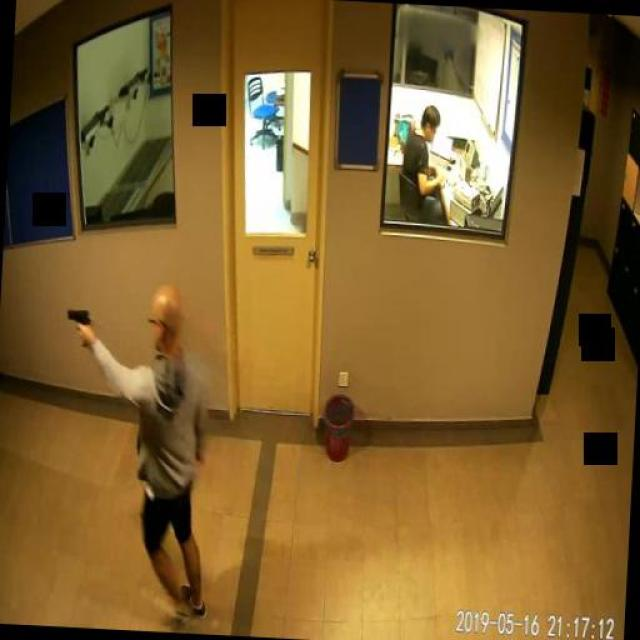gun: (65, 306, 90, 348)
